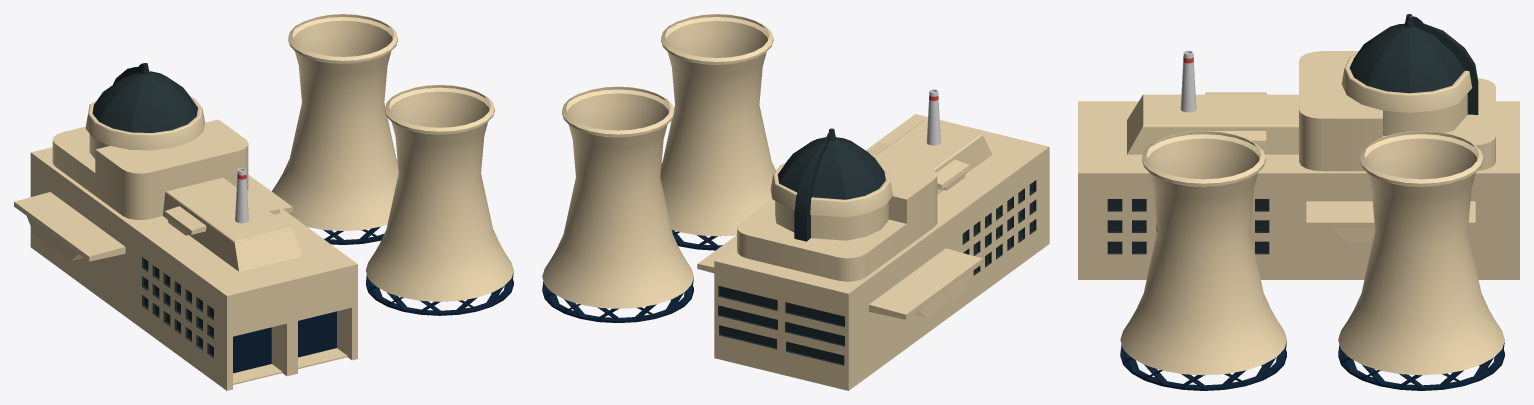
The model's file is infrastructure-building-nuclear-power-plant.fbx.
3 renders of one model, left to right at view 1: azimuth 30°, elevation 25°; view 2: azimuth 150°, elevation 25°; view 3: azimuth 270°, elevation 25°, orthographic. The views are drawn at different scales.
Parts seen in each view (by area): view 1: infrastructure-building-nuclear-power-plant, nuclear-reactor-A, nuclear-reactor-B; view 2: infrastructure-building-nuclear-power-plant, nuclear-reactor-B, nuclear-reactor-A; view 3: infrastructure-building-nuclear-power-plant, nuclear-reactor-A, nuclear-reactor-B.
Boxes of the visible parts, x1,y1,x2,y2 form: infrastructure-building-nuclear-power-plant: (14,63,357,390); nuclear-reactor-A: (366,84,513,315); nuclear-reactor-B: (272,14,398,244); infrastructure-building-nuclear-power-plant: (697,89,1049,390); nuclear-reactor-B: (542,86,693,322); nuclear-reactor-A: (660,14,775,250); infrastructure-building-nuclear-power-plant: (1078,14,1519,279); nuclear-reactor-A: (1120,131,1286,390); nuclear-reactor-B: (1338,131,1504,390).
Size of the model in its own units: 32.66 by 17.18 by 30.04.
